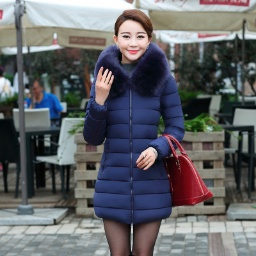face: (112, 9, 156, 62)
